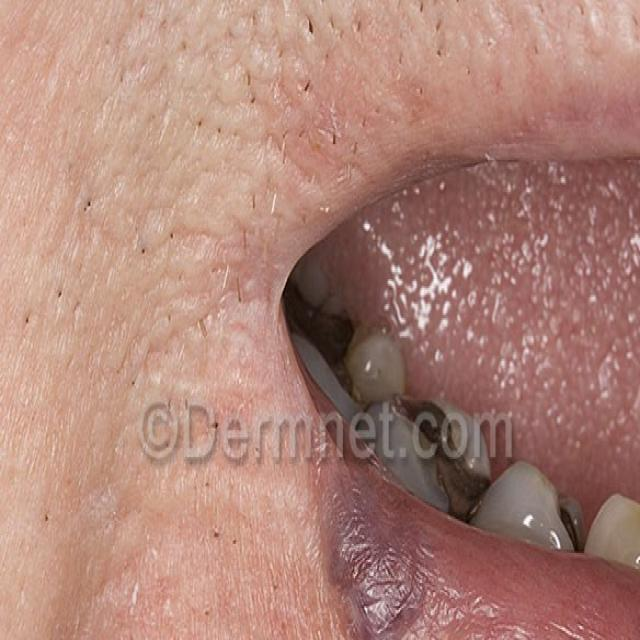Vascular Tumors: (328, 455, 435, 640)
